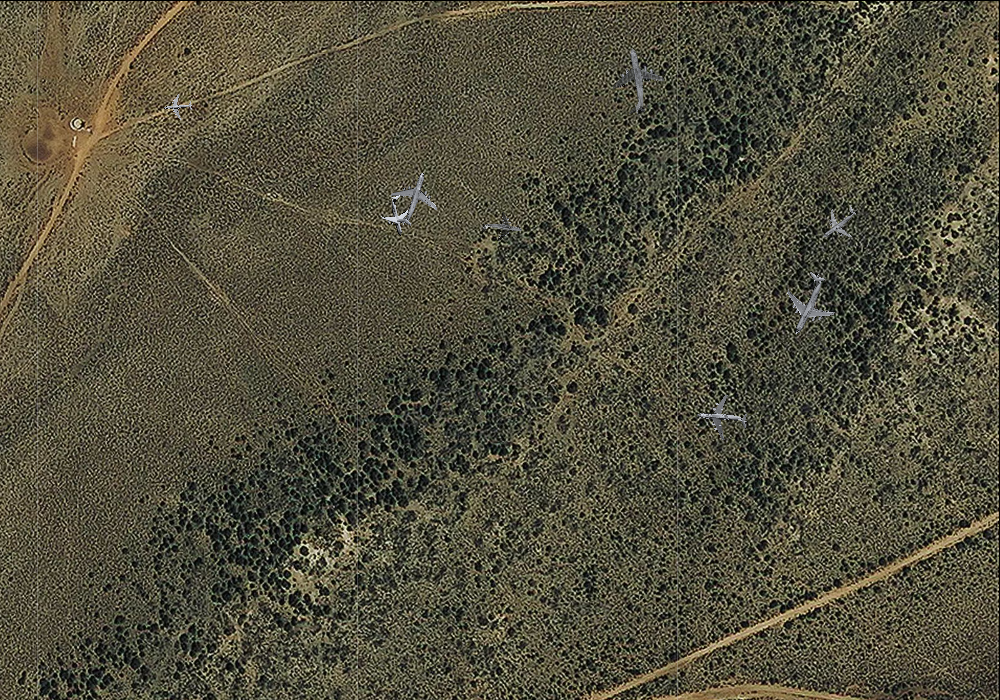plane: (767, 262, 848, 346), (599, 43, 671, 118), (379, 164, 446, 232), (811, 195, 867, 251), (695, 392, 749, 444), (375, 191, 419, 239), (478, 207, 524, 249), (162, 92, 192, 120)
